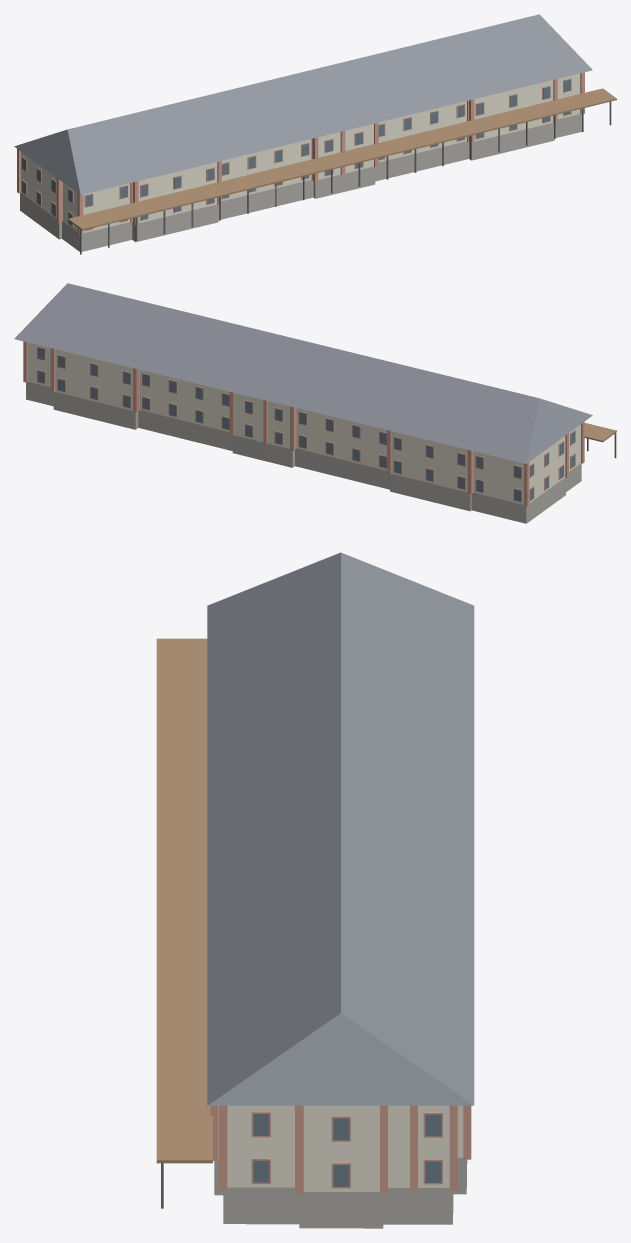
Rendered from loerrach-bahnhof.glb.
3 views of the same model, one above another, from view 1: azimuth 30°, elevation 25°; view 2: azimuth 150°, elevation 25°; view 3: azimuth 270°, elevation 25° (orthographic). The views are drawn at different scales.
Visible parts, largest first — view 1: building; view 2: building; view 3: building.
Part boxes in pixels (bbox=[...]): building: bbox=[14, 14, 616, 254]; building: bbox=[14, 283, 616, 523]; building: bbox=[156, 552, 474, 1228].
Size of the model in its own units: 76.8 by 13.6 by 19.73.
